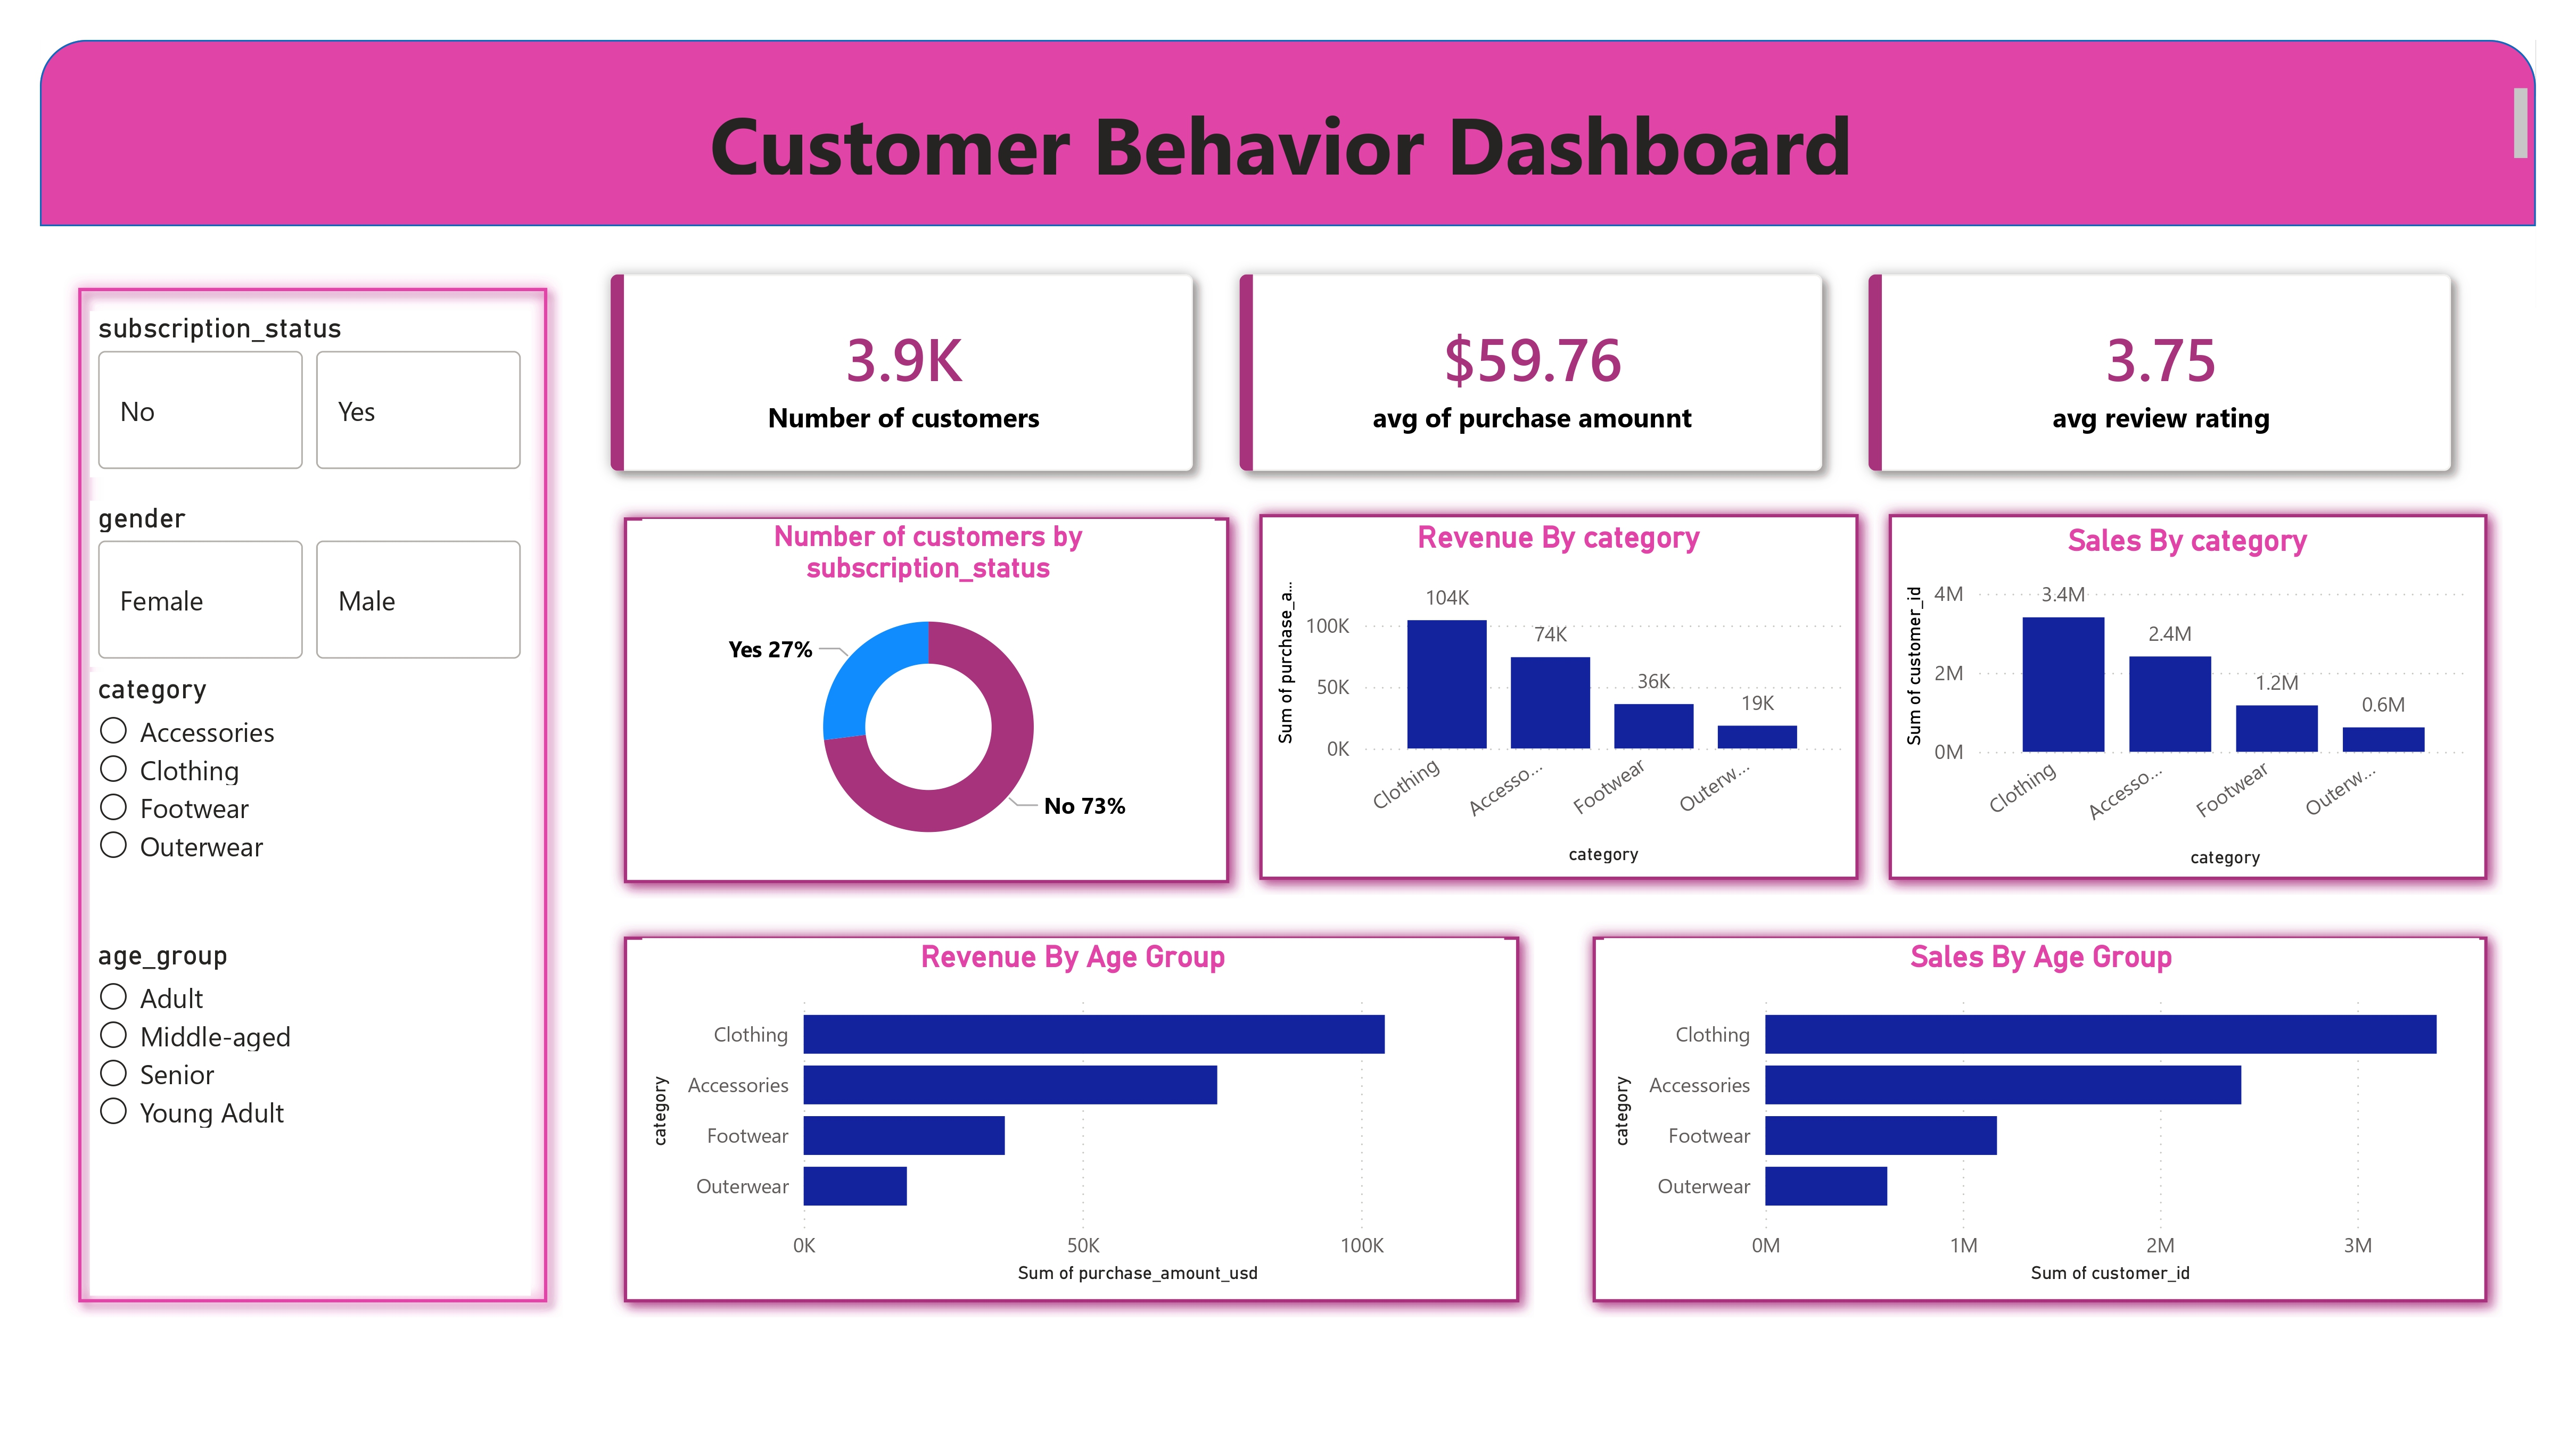

This screenshot's page, from the dashboard's own definition file:
{"tool":"powerbi","page":{"name":"Page 1","canvas":[1500,820],"ordinal":0},"visuals":[{"type":"cardVisual","fields":{"Data":["customer_behaviour customers.Number of customers","customer_behaviour customers.avg of purchase amounnt","customer_behaviour customers.avg review rating"]},"box":[314,112,1166,176],"z":0},{"type":"shape","box":[0,0,1500,112],"z":1000},{"type":"textbox","box":[0,24,1500,62],"z":2000},{"type":"shape","box":[342,278,382,238],"z":3000},{"type":"donutChart","fields":{"Category":["customer_behaviour customers.subscription_status"],"Y":["customer_behaviour customers.Number of customers"]},"box":[362,288,344,212],"z":4000},{"type":"shape","box":[724,276,378,238],"z":5000},{"type":"clusteredColumnChart","title":"Revenue By category ","fields":{"Category":["customer_behaviour customers.category"],"Y":["Sum(customer_behaviour customers.purchase_amount_usd)"]},"box":[738,288,350,212],"z":7000},{"type":"shape","box":[1102,276,378,238],"z":7500},{"type":"clusteredColumnChart","title":"Sales By category ","fields":{"Category":["customer_behaviour customers.category"],"Y":["Sum(customer_behaviour customers.customer_id)"]},"box":[1116,290,350,212],"z":8000},{"type":"shape","box":[342,530,556,238],"z":9000},{"type":"clusteredBarChart","title":"Revenue By Age Group","fields":{"Category":["customer_behaviour customers.category"],"Y":["Sum(customer_behaviour customers.purchase_amount_usd)"]},"box":[362,540,518,212],"z":10000},{"type":"shape","box":[924,530,556,238],"z":11000},{"type":"clusteredBarChart","title":"Sales By Age Group","fields":{"Category":["customer_behaviour customers.category"],"Y":["Sum(customer_behaviour customers.customer_id)"]},"box":[940,540,526,212],"z":12000},{"type":"shape","box":[14,140,300,628],"z":12002},{"type":"advancedSlicerVisual","fields":{"Values":["customer_behaviour customers.subscription_status"]},"box":[30,163.3,265,100],"z":12003},{"type":"advancedSlicerVisual","fields":{"Values":["customer_behaviour customers.gender"]},"box":[30,276.7,265,100],"z":12004},{"type":"listSlicer","fields":{"Values":["customer_behaviour customers.category"]},"box":[30,380,265,215],"z":12005},{"type":"listSlicer","fields":{"Values":["customer_behaviour customers.age_group"]},"box":[30,540,265,215],"z":12006}]}

Visuals, with their boxes in screenshot pixels (x1, y1, x2, y2):
cardVisual - customer_behaviour customers.Number of customers x customer_behaviour customers.avg of purchase amounnt: <bbox>563, 226, 2503, 519</bbox>
shape: <bbox>40, 40, 2536, 226</bbox>
textbox: <bbox>40, 80, 2536, 183</bbox>
shape: <bbox>609, 502, 1245, 898</bbox>
donutChart - customer_behaviour customers.subscription_status x customer_behaviour customers.Number of customers: <bbox>643, 519, 1215, 872</bbox>
shape: <bbox>1245, 499, 1874, 895</bbox>
"Revenue By category " clusteredColumnChart: <bbox>1268, 519, 1850, 872</bbox>
shape: <bbox>1874, 499, 2503, 895</bbox>
"Sales By category " clusteredColumnChart: <bbox>1897, 522, 2480, 875</bbox>
shape: <bbox>609, 922, 1534, 1317</bbox>
"Revenue By Age Group" clusteredBarChart: <bbox>643, 938, 1504, 1291</bbox>
shape: <bbox>1577, 922, 2503, 1317</bbox>
"Sales By Age Group" clusteredBarChart: <bbox>1604, 938, 2480, 1291</bbox>
shape: <bbox>63, 273, 563, 1317</bbox>
advancedSlicerVisual - customer_behaviour customers.subscription_status: <bbox>90, 311, 531, 478</bbox>
advancedSlicerVisual - customer_behaviour customers.gender: <bbox>90, 500, 531, 666</bbox>
listSlicer - customer_behaviour customers.category: <bbox>90, 672, 531, 1030</bbox>
listSlicer - customer_behaviour customers.age_group: <bbox>90, 938, 531, 1296</bbox>
